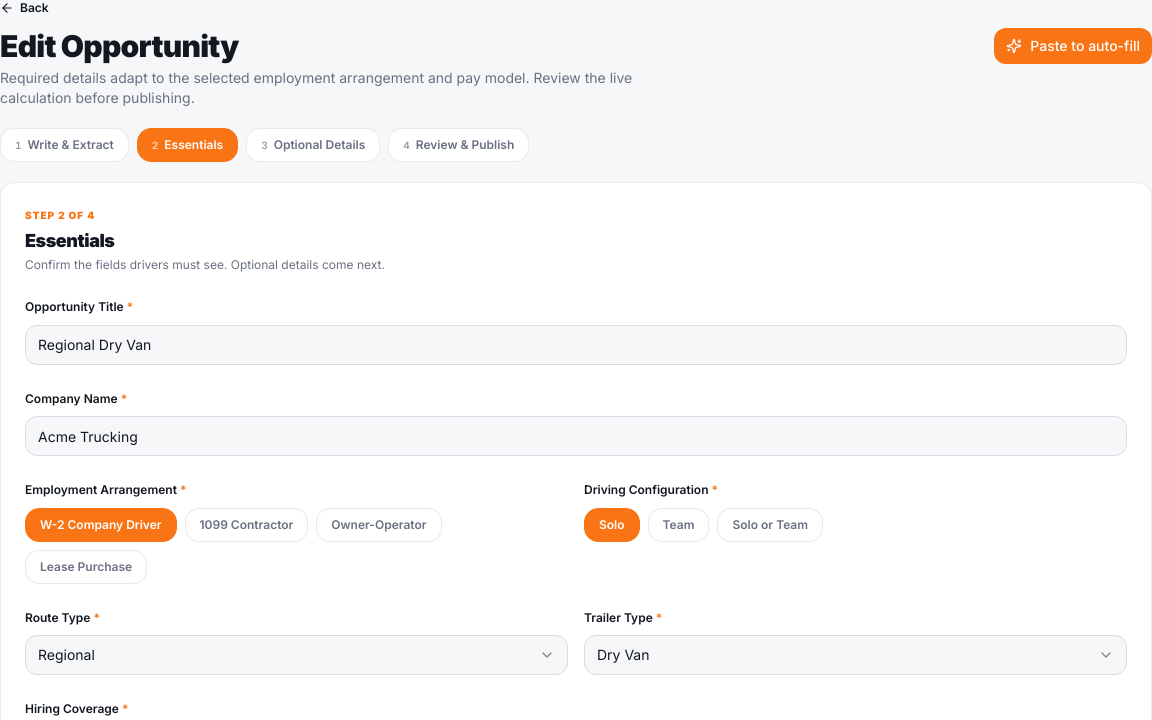
Test: CF-1C-B 11) review preview shows structured criteria only when set › 11b) renders populated structured criteria before publish
Click the tab "4Review & Publish" at (459, 145), box [388,128,529,162]
(page scrolled)
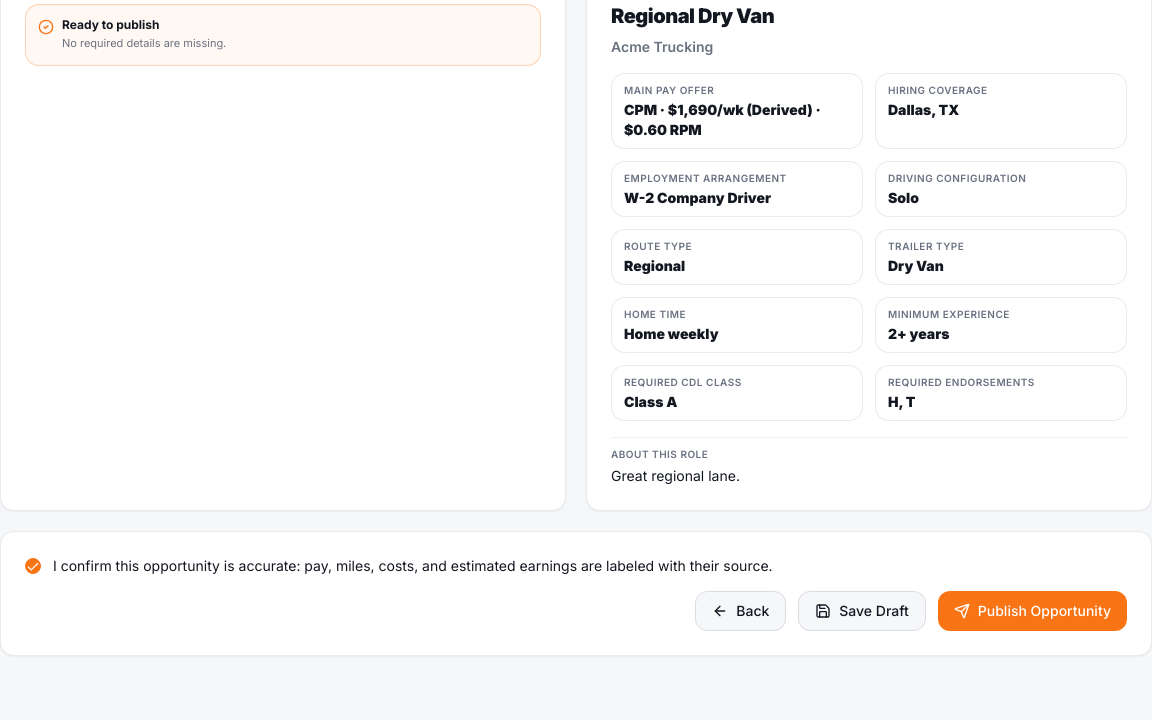
Now the text "Minimum experience" is shown, box [888,308,1010,320]
Now the text "2+ years" is shown, box [888,325,950,342]
Now the text "Required CDL class" is shown, box [624,376,742,388]
